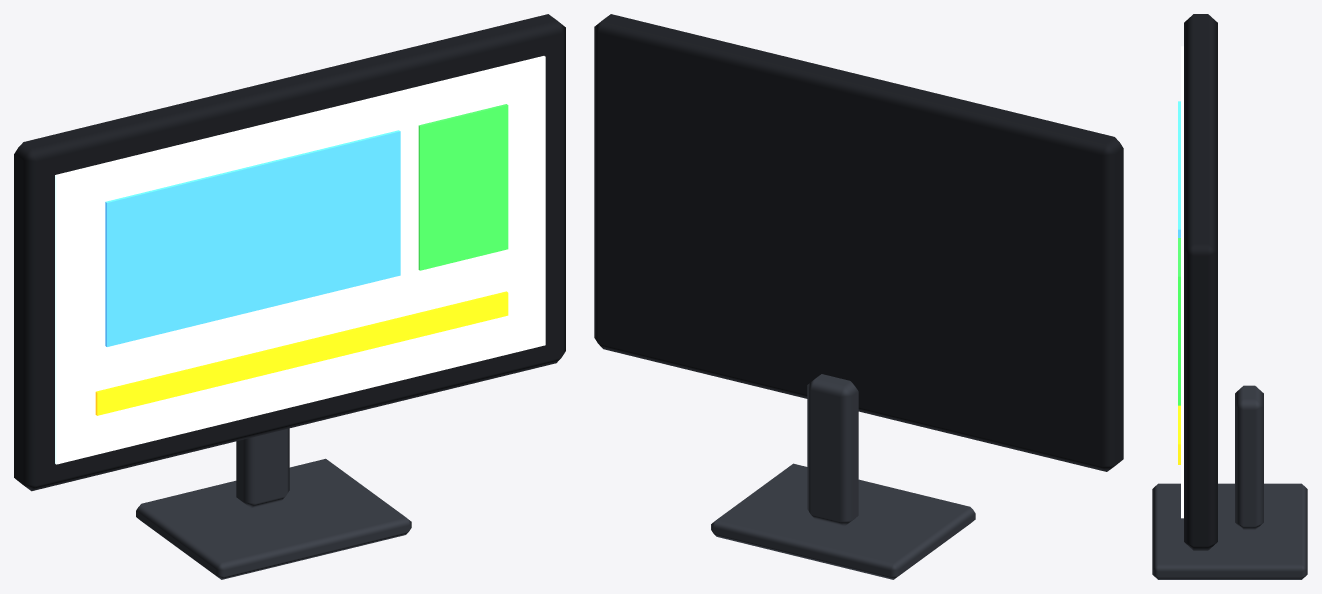
File: station_processing_ausstattung_2_0.glb
3 views of the same model, side by side, from view 1: azimuth 30°, elevation 25°; view 2: azimuth 150°, elevation 25°; view 3: azimuth 270°, elevation 25° (orthographic). The views are drawn at different scales.
Parts seen in each view (by area): view 1: station_processing_ausstattung_2_0; view 2: station_processing_ausstattung_2_0; view 3: station_processing_ausstattung_2_0.
Part boxes in pixels (x1,y1,x2,y2): station_processing_ausstattung_2_0: [14, 14, 565, 579]; station_processing_ausstattung_2_0: [594, 14, 1123, 579]; station_processing_ausstattung_2_0: [1152, 14, 1307, 579].
Size of the model in its own units: 0.58 by 0.468 by 0.16.
